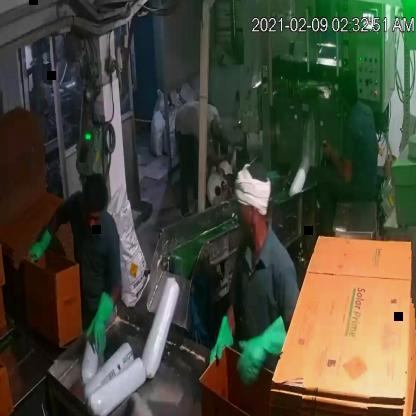glove: (234, 311, 293, 396), (83, 288, 122, 362), (200, 304, 238, 378), (18, 216, 56, 272)
no_glove: (317, 128, 361, 192)
